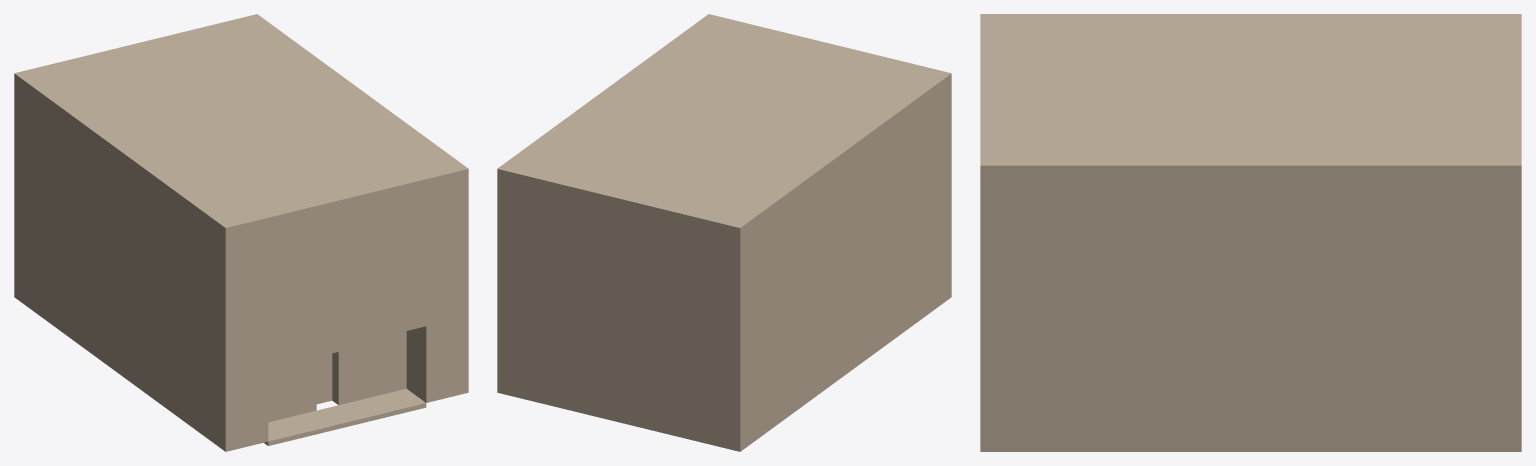
The model's file is massing.glb.
3 renders of one model, left to right at view 1: azimuth 30°, elevation 25°; view 2: azimuth 150°, elevation 25°; view 3: azimuth 270°, elevation 25°, orthographic. The views are drawn at different scales.
Parts seen in each view (by area): view 1: building/exterior; view 2: building/exterior; view 3: building/exterior.
Boxes of the visible parts, x1=… form: building/exterior: x1=14, y1=14, x2=468, y2=451; building/exterior: x1=497, y1=14, x2=951, y2=451; building/exterior: x1=980, y1=14, x2=1521, y2=451.
Size of the model in its own units: 10 by 8.98 by 15.07.
